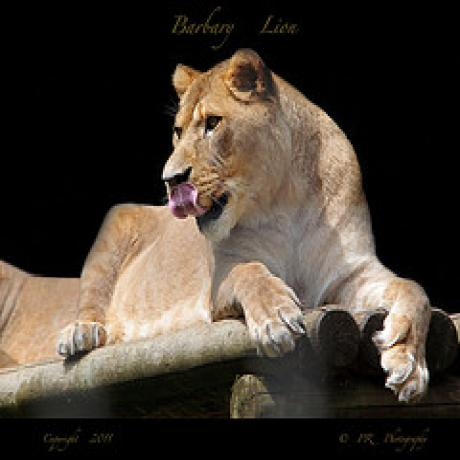Lion: (0, 46, 433, 396)
